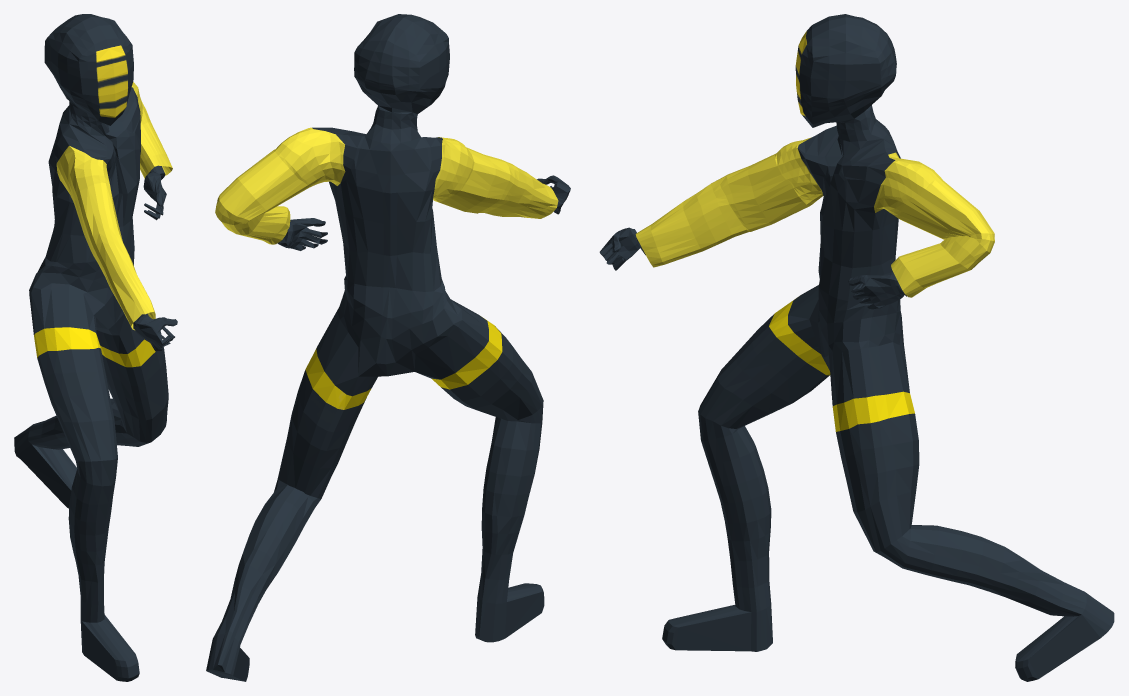
File: Sentry_WR_000023.obj
3 views of the same model, side by side, from view 1: azimuth 30°, elevation 25°; view 2: azimuth 150°, elevation 25°; view 3: azimuth 270°, elevation 25° (orthographic). The views are drawn at different scales.
Parts seen in each view (by area): view 1: Cube; view 2: Cube; view 3: Cube.
Boxes of the visible parts, bbox=[...] form: Cube: bbox=[14, 14, 177, 681]; Cube: bbox=[206, 14, 570, 681]; Cube: bbox=[599, 14, 1114, 681].
Size of the model in its own units: 1.18 by 3.6 by 2.58.
